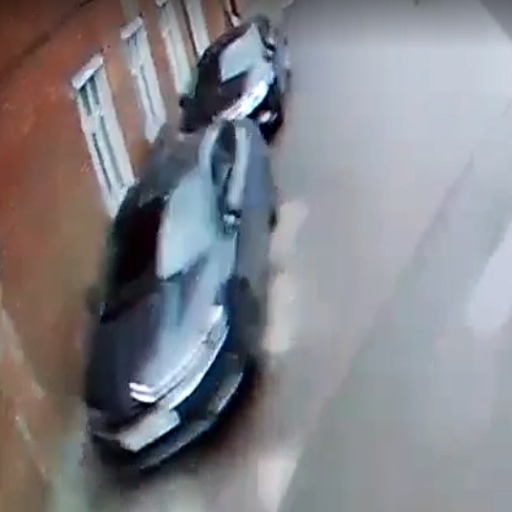Car: (86, 121, 269, 470), (183, 15, 286, 143)
